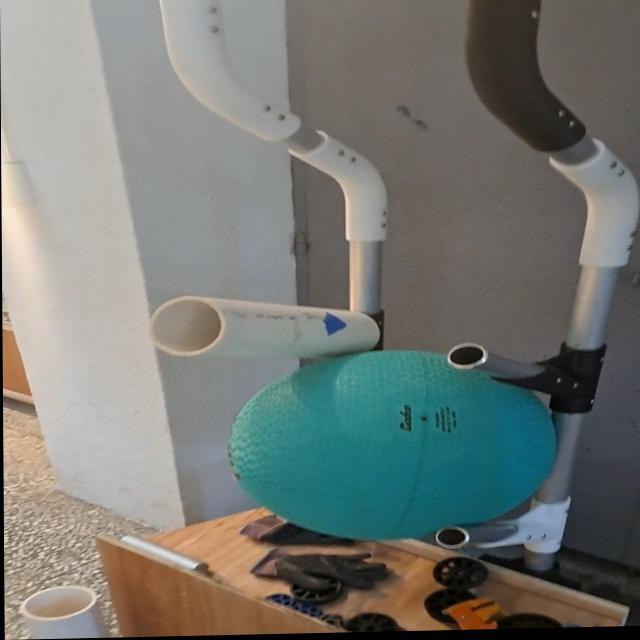ALGAE: (224, 344, 566, 546)
CORAL: (136, 286, 393, 369)
